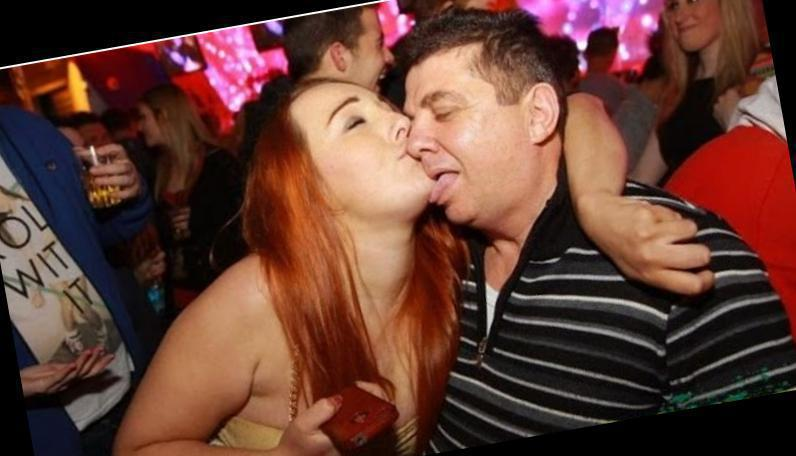Drunk: (410, 57, 533, 222), (296, 79, 436, 211)
